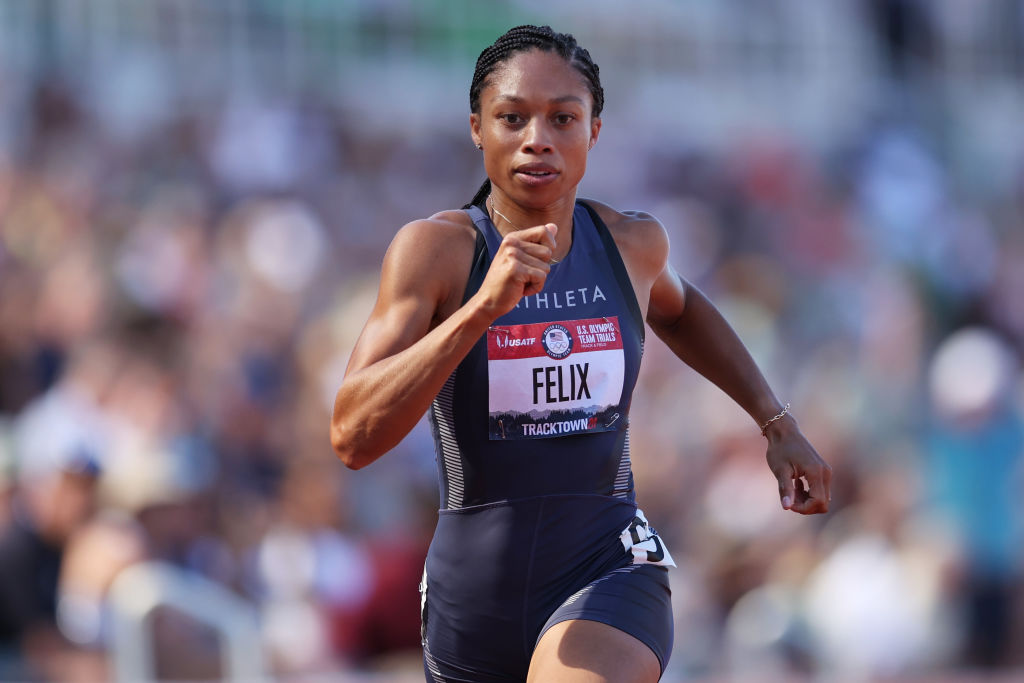runner: (305, 24, 845, 681)
